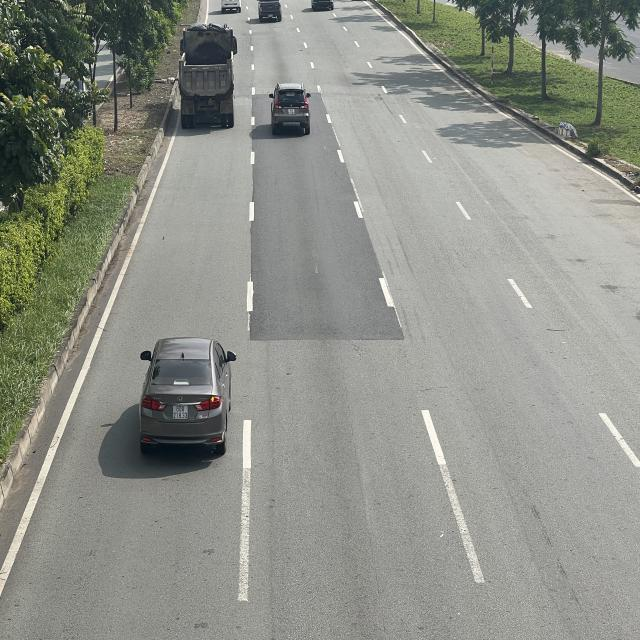car: (140, 334, 238, 452), (268, 82, 312, 132)
container: (180, 21, 241, 126)
